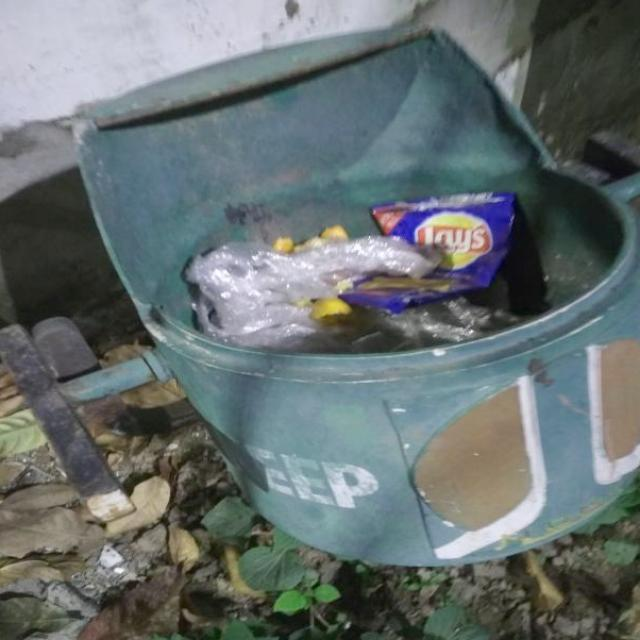garbage: (0, 312, 251, 640), (190, 192, 604, 356)
